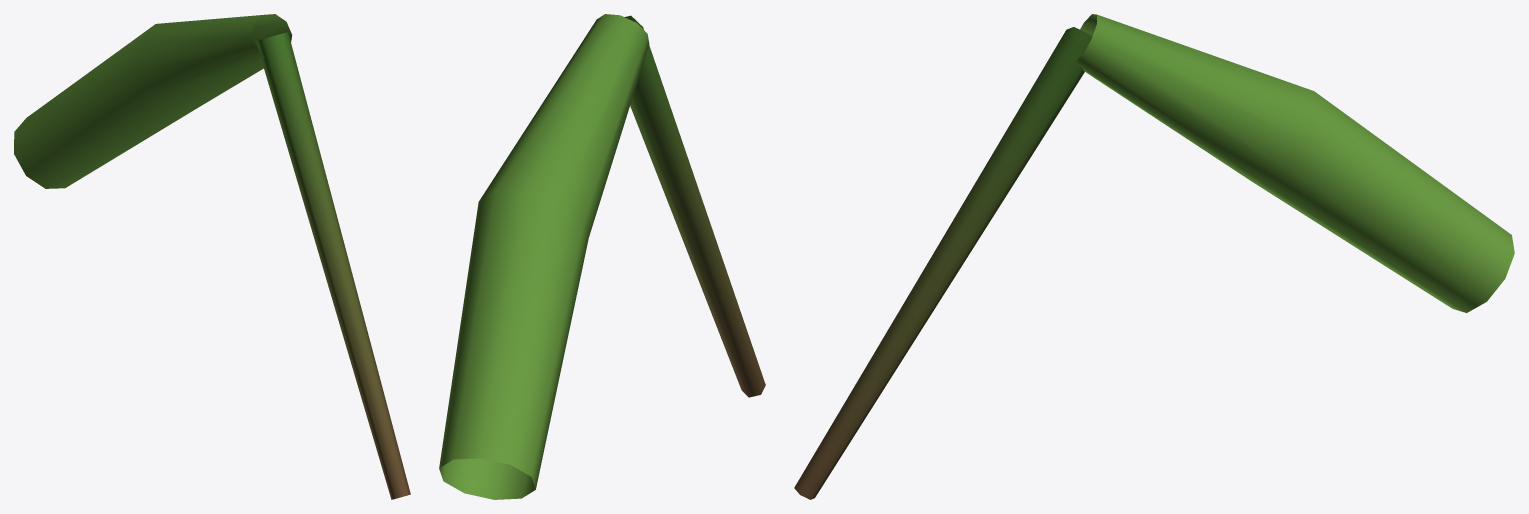
The model's file is Grasshopper_Hind.fbx.
3 views of the same model, side by side, from view 1: azimuth 30°, elevation 25°; view 2: azimuth 150°, elevation 25°; view 3: azimuth 270°, elevation 25° (orthographic). The views are drawn at different scales.
Visible parts, largest first — view 1: Grasshopper_Hind; view 2: Grasshopper_Hind; view 3: Grasshopper_Hind.
Part boxes in pixels (x1,y1,x2,y2): Grasshopper_Hind: [14, 14, 410, 499]; Grasshopper_Hind: [439, 14, 765, 499]; Grasshopper_Hind: [794, 14, 1514, 499].
Bounding box in the file's own units: 0.2066 × 0.6574 × 0.9039.
